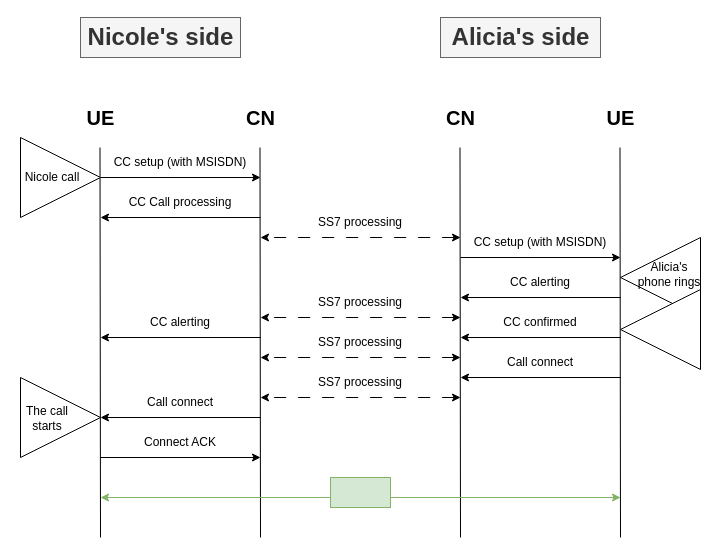
Image size: 721x556. Some labels were removed from this diagram. The centre of each missing label's shape, as x and y in pixels:
"Alicia answered" belongs at [660,329].
"VOICE" belongs at [360,492].
